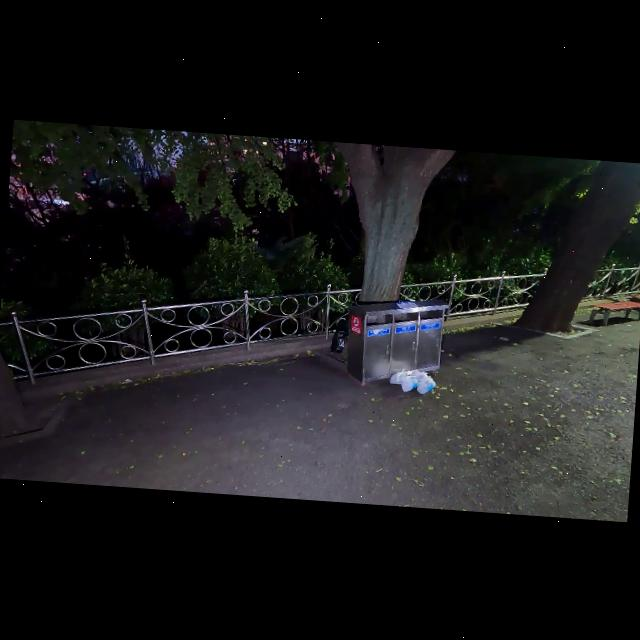trash: (386, 364, 412, 387), (329, 321, 346, 354), (398, 372, 418, 395), (415, 374, 437, 394), (410, 364, 429, 384)
